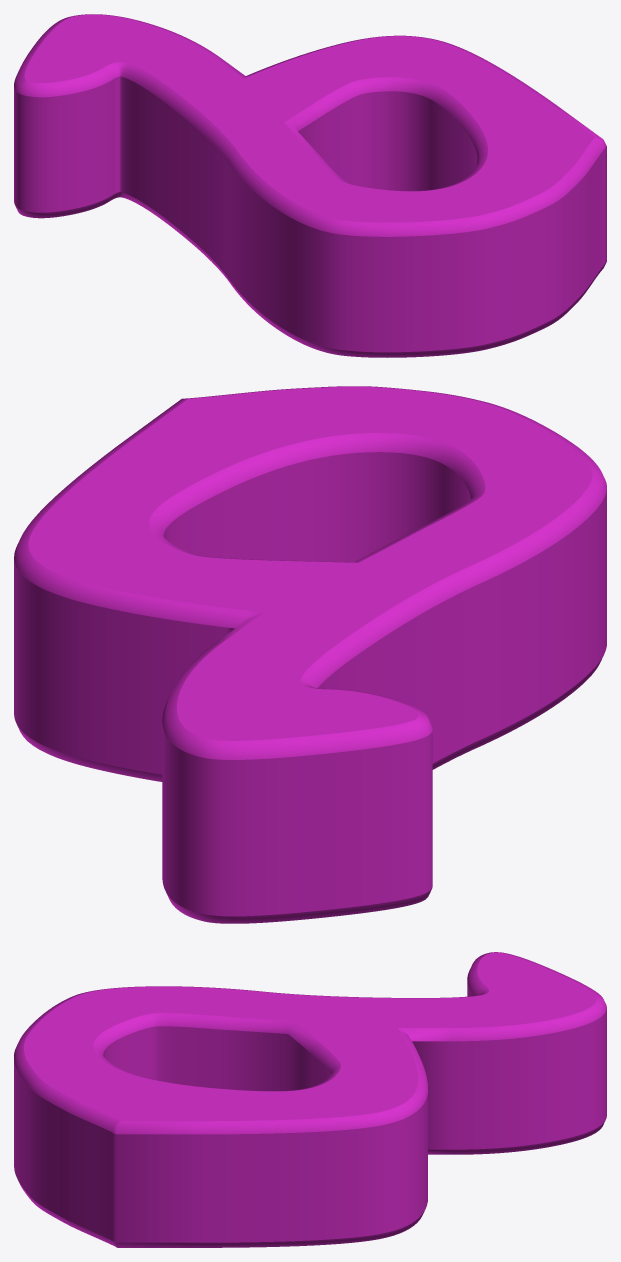
The model's file is Bubble_Letter_q.fbx.
The picture shows the model from 3 angles, top to bottom: view 1: azimuth 30°, elevation 25°; view 2: azimuth 150°, elevation 25°; view 3: azimuth 270°, elevation 25°; orthographic projection. The views are drawn at different scales.
Parts seen in each view (by area): view 1: BubbleLetter_q; view 2: BubbleLetter_q; view 3: BubbleLetter_q.
Part boxes in pixels (box(x1,y1,x2,y2)): BubbleLetter_q: box(14, 14, 606, 357); BubbleLetter_q: box(14, 386, 606, 923); BubbleLetter_q: box(14, 952, 606, 1247).
Bounding box in the file's own units: 0.4211 × 0.14 × 0.5953.
